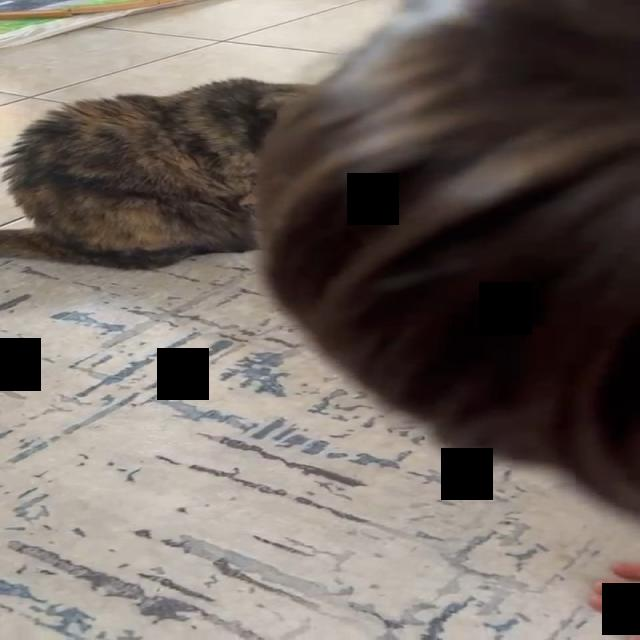authorized: (0, 76, 317, 270)
